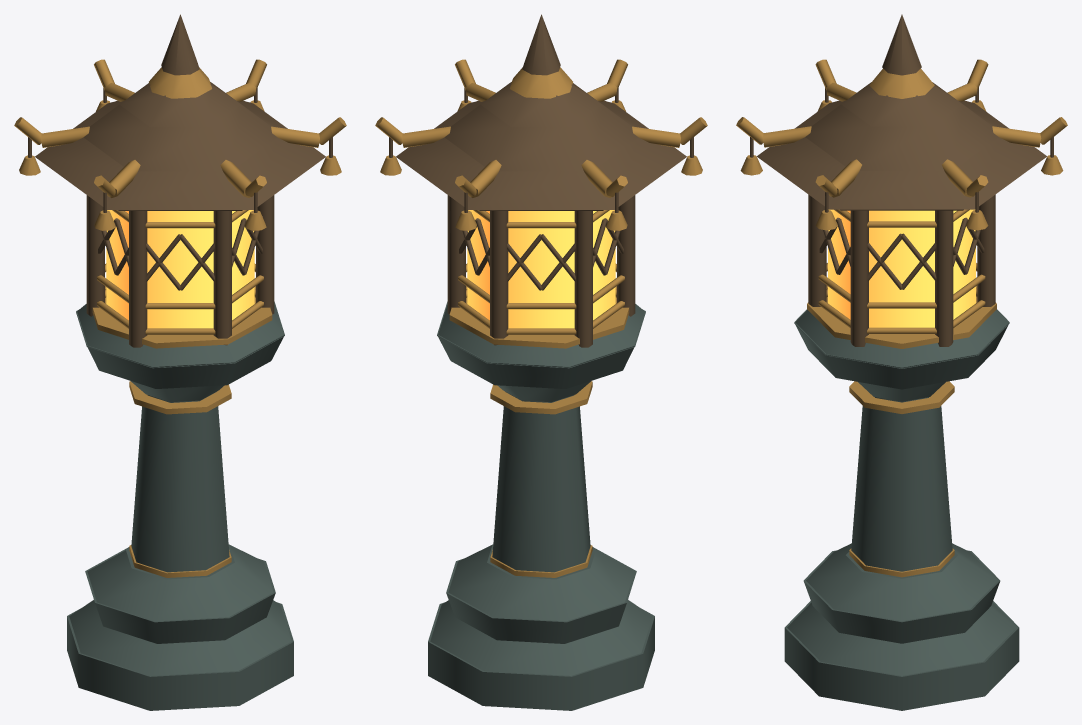
Rendered from ProcessionLantern.glb.
The picture shows the model from 3 angles, left to right: view 1: azimuth 30°, elevation 25°; view 2: azimuth 150°, elevation 25°; view 3: azimuth 270°, elevation 25°; orthographic projection.
Parts seen in each view (by area): view 1: Carved grey stone, Patinated bronze, Worn brass, Amber silk; view 2: Carved grey stone, Patinated bronze, Worn brass, Amber silk; view 3: Carved grey stone, Patinated bronze, Worn brass, Amber silk.
Part boxes in pixels (x1=…): Carved grey stone: x1=67, y1=301, x2=293, y2=710; Patinated bronze: x1=28, y1=14, x2=332, y2=347; Worn brass: x1=14, y1=59, x2=346, y2=577; Amber silk: x1=106, y1=210, x2=254, y2=328; Carved grey stone: x1=428, y1=301, x2=654, y2=710; Patinated bronze: x1=389, y1=14, x2=693, y2=347; Worn brass: x1=375, y1=59, x2=707, y2=577; Amber silk: x1=467, y1=210, x2=615, y2=328; Carved grey stone: x1=784, y1=309, x2=1019, y2=710; Patinated bronze: x1=750, y1=14, x2=1053, y2=346; Worn brass: x1=736, y1=59, x2=1067, y2=577; Amber silk: x1=828, y1=209, x2=975, y2=327.
Size of the model in its own units: 1.23 by 3.05 by 1.41.
